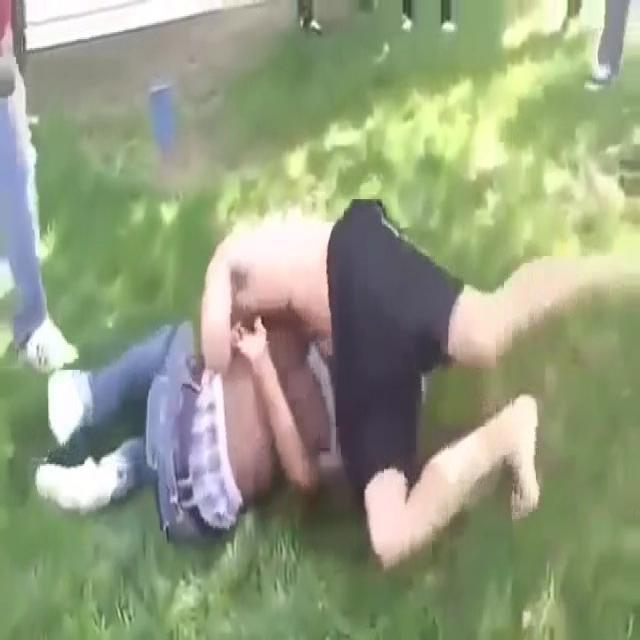non-violence: (0, 0, 79, 362), (583, 0, 627, 95)
violence: (52, 197, 639, 557)
